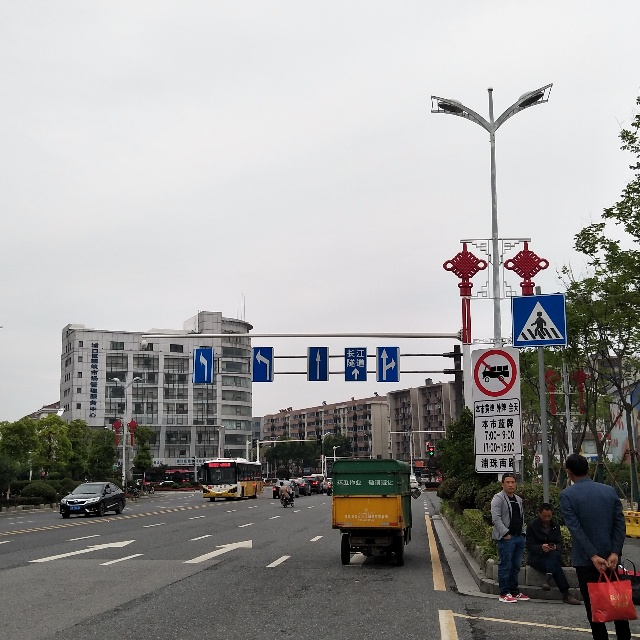left: (194, 347, 213, 387), (255, 351, 272, 383)
straight: (312, 349, 329, 382)
